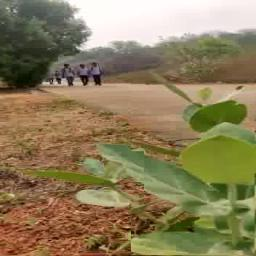Calotropis: (131, 73, 255, 256), (56, 151, 146, 201)
